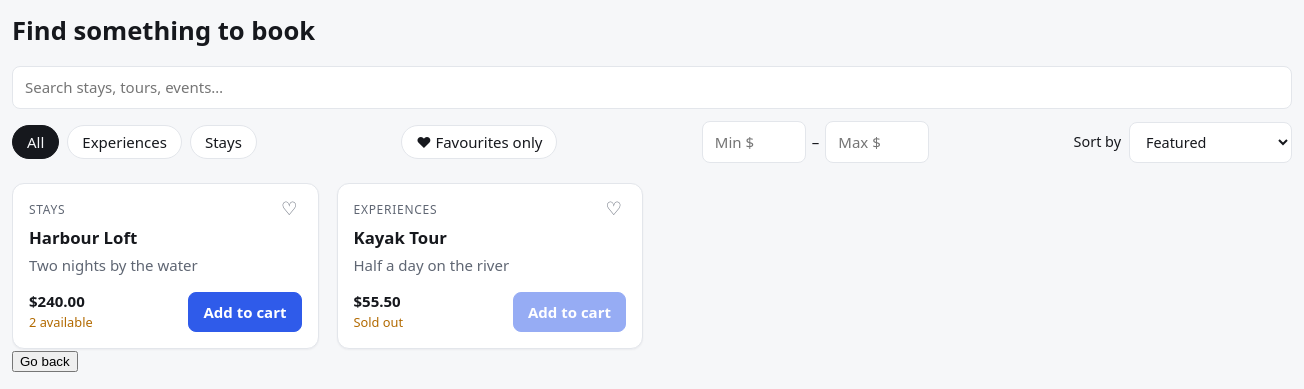
Products page › filters by category and drops the filter again for All
Expected: the heading "Kayak Tour" is shown, [354, 226, 447, 249]
Step 1. Click the button "Stays" → {"x": 223, "y": 142}, box [190, 125, 257, 159]
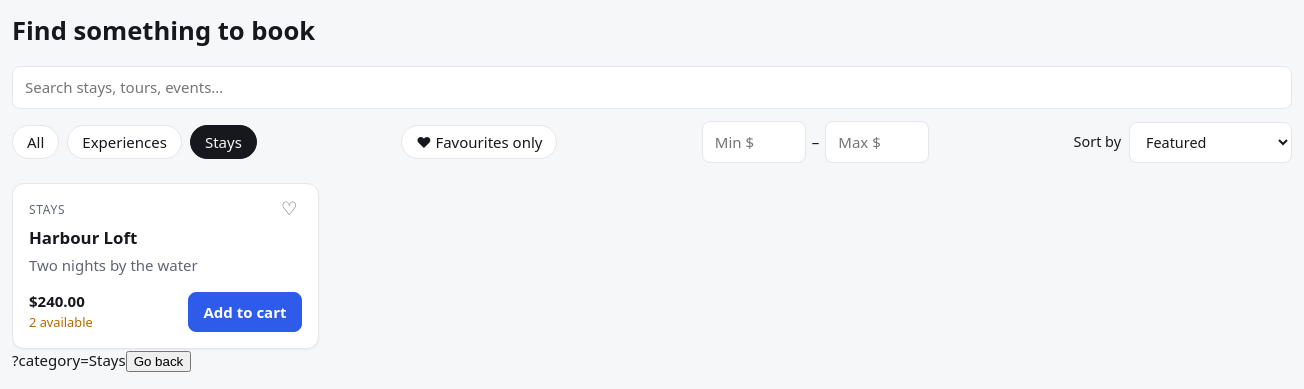
Expected: the link "Kayak Tour" is gone
Step 2. Click the button "All" → {"x": 36, "y": 142}, box [12, 125, 59, 159]
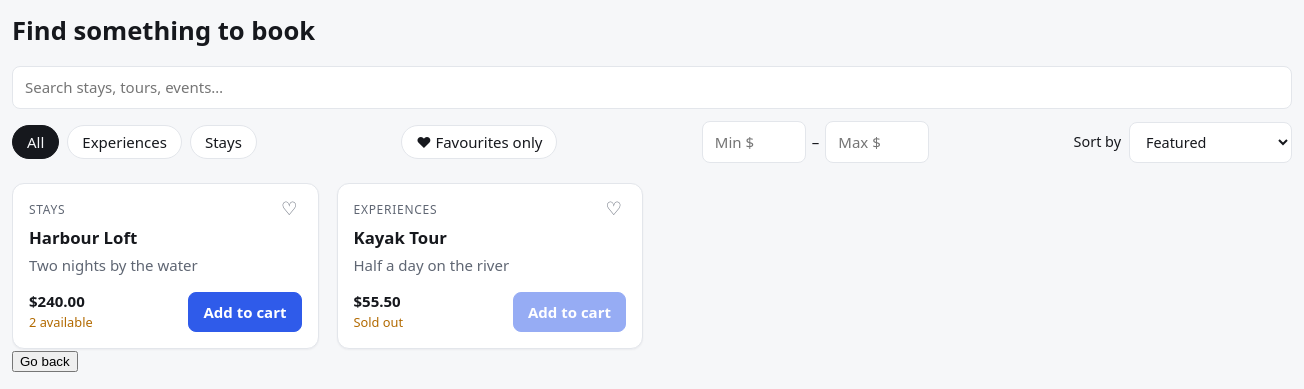
Expected: the heading "Kayak Tour" is shown, [354, 226, 447, 249]
